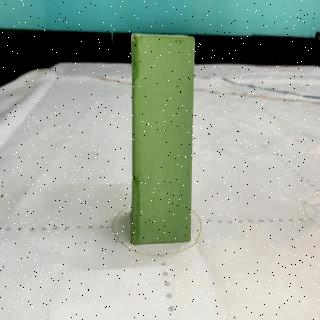greenbox: (130, 29, 195, 243)
